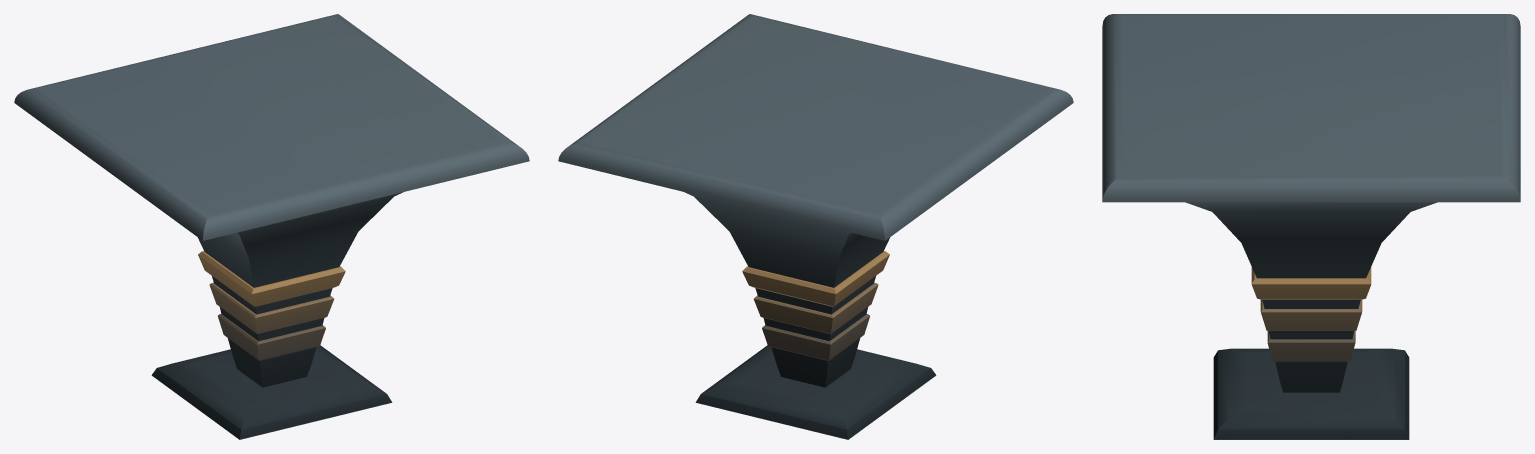
Rendered from Table1.fbx.
3 renders of one model, left to right at view 1: azimuth 30°, elevation 25°; view 2: azimuth 150°, elevation 25°; view 3: azimuth 270°, elevation 25°, orthographic. The views are drawn at different scales.
Visible parts, largest first — view 1: Table1; view 2: Table1; view 3: Table1.
Part boxes in pixels (x1,y1,x2,y2): Table1: (14,14,529,439); Table1: (558,14,1073,439); Table1: (1102,14,1520,439).
Bounding box in the file's own units: 1 × 1 × 0.8.
